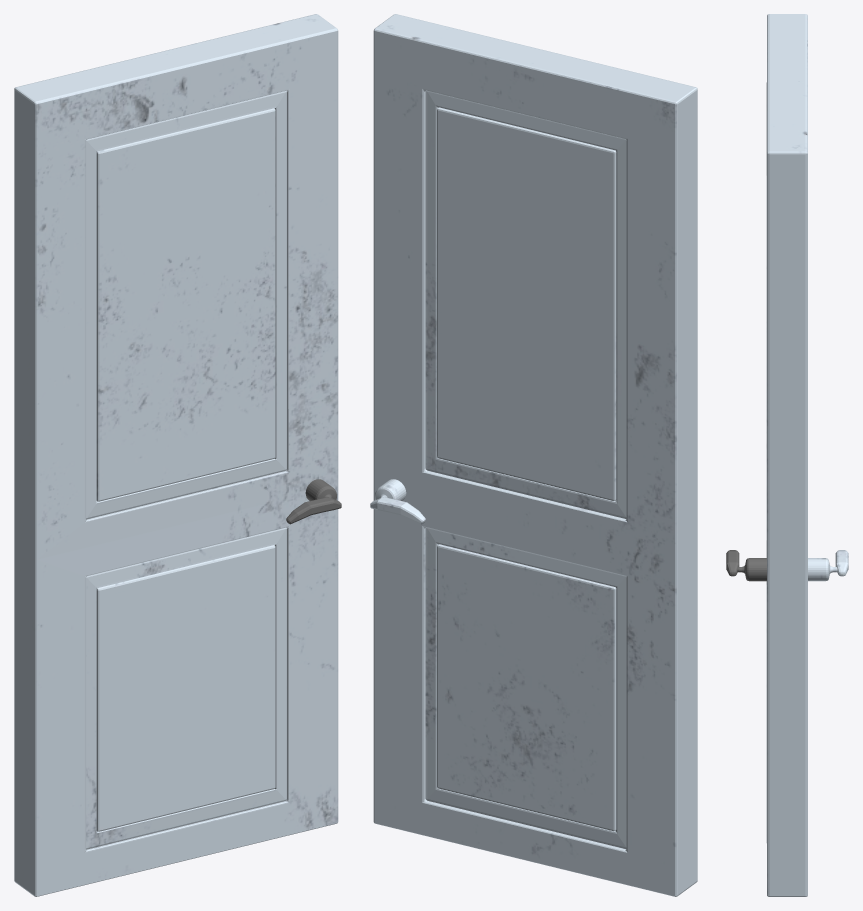
The model's file is door2.fbx.
3 views of the same model, side by side, from view 1: azimuth 30°, elevation 25°; view 2: azimuth 150°, elevation 25°; view 3: azimuth 270°, elevation 25° (orthographic). The views are drawn at different scales.
Parts seen in each view (by area): view 1: door_applied.001; view 2: door_applied.001; view 3: door_applied.001.
Part boxes in pixels (x1,y1,x2,y2): door_applied.001: (14, 14, 341, 896); door_applied.001: (370, 14, 697, 896); door_applied.001: (726, 14, 848, 896).
Size of the model in its own units: 88 by 220 by 32.66.
Materials: 1 (1 with a texture image).
